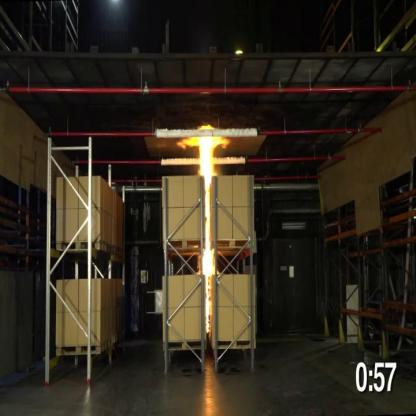fire: (177, 121, 230, 335)
